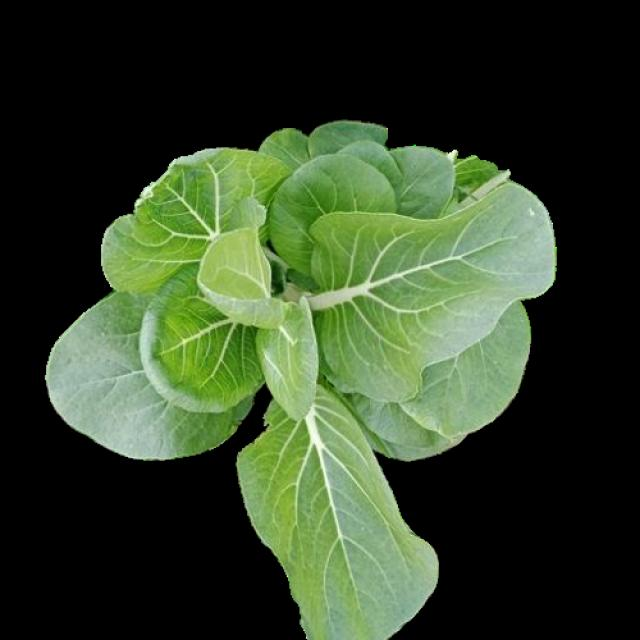healthy: (45, 119, 554, 637)
mature: (47, 121, 556, 640)
